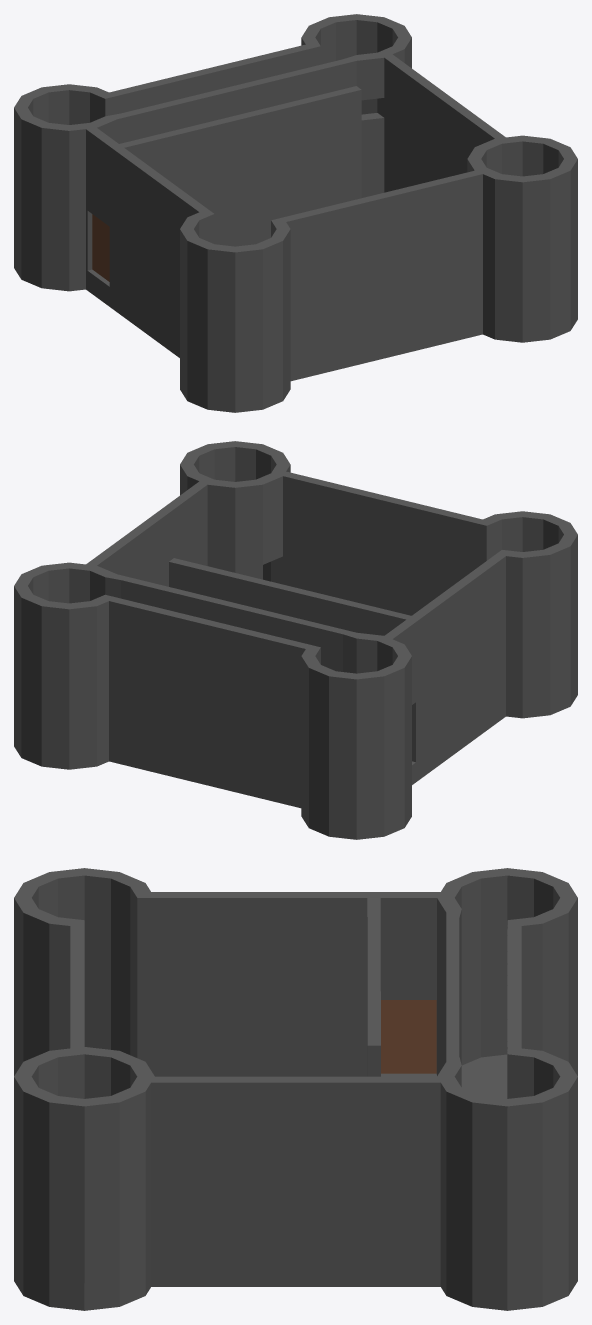
The model's file is Castle.fbx.
3 views of the same model, one above another, from view 1: azimuth 30°, elevation 25°; view 2: azimuth 150°, elevation 25°; view 3: azimuth 270°, elevation 25° (orthographic). The views are drawn at different scales.
Visible parts, largest first — view 1: Cube; view 2: Cube; view 3: Cube.
Part boxes in pixels (bbox=[...]): Cube: bbox=[14, 14, 577, 412]; Cube: bbox=[14, 441, 577, 839]; Cube: bbox=[14, 868, 577, 1310].
Bounding box in the file's own units: 2000 × 800 × 2000.
